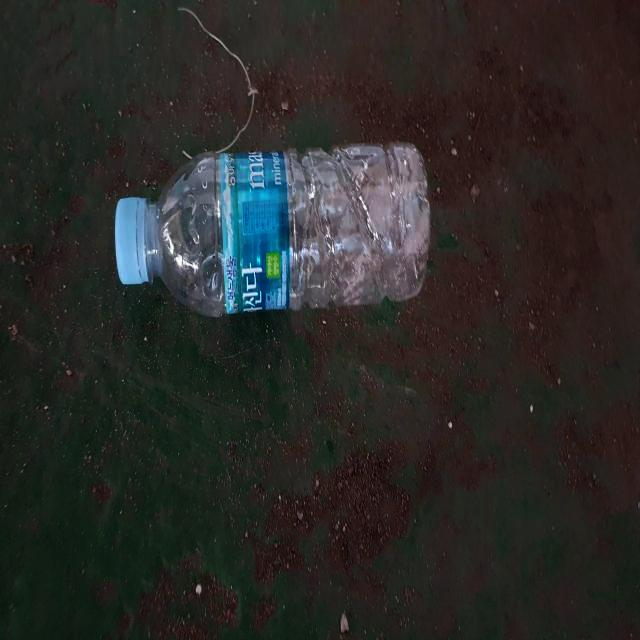bottle: (114, 144, 430, 317)
